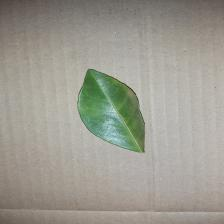greening: (73, 66, 151, 156)
